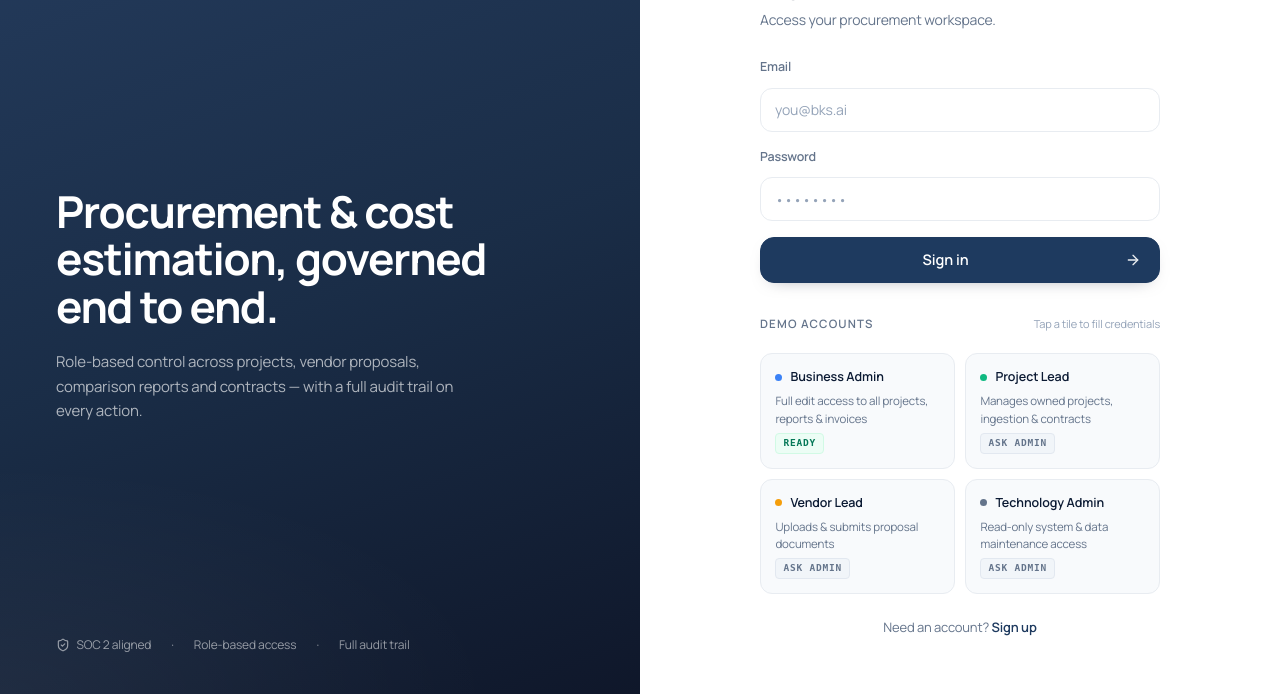
Test case: Auth › does not offer demo accounts when creating an account
(page scrolled)
Click the button "Sign up" at (1014, 628), box [992, 618, 1037, 638]
(page scrolled)
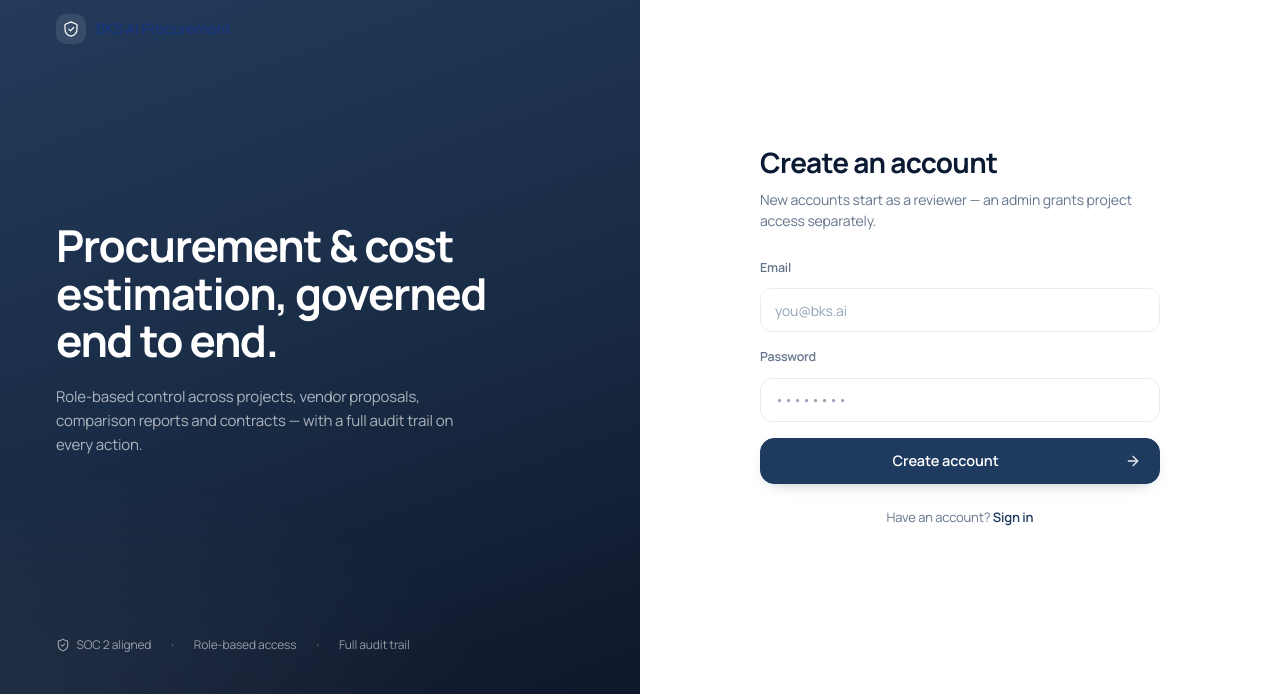
Expected: the text "Demo accounts" is gone
